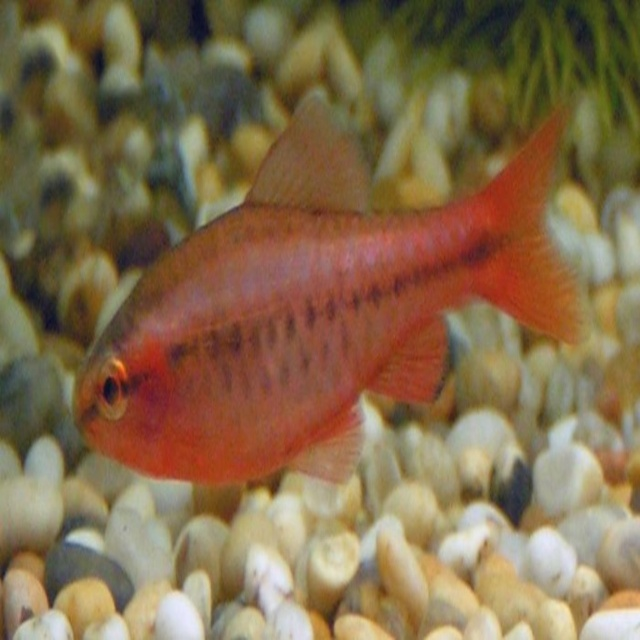Goldfish: (73, 92, 591, 487)
